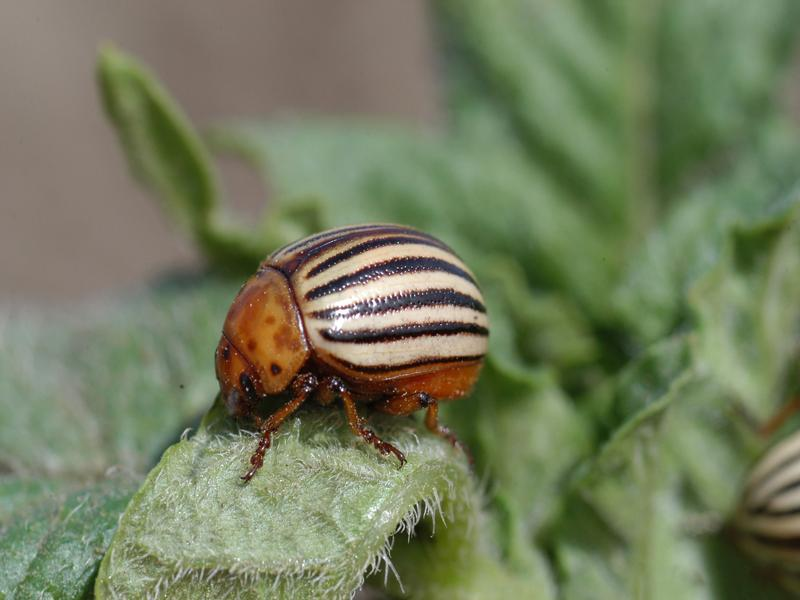hrosc: (208, 221, 493, 430)
